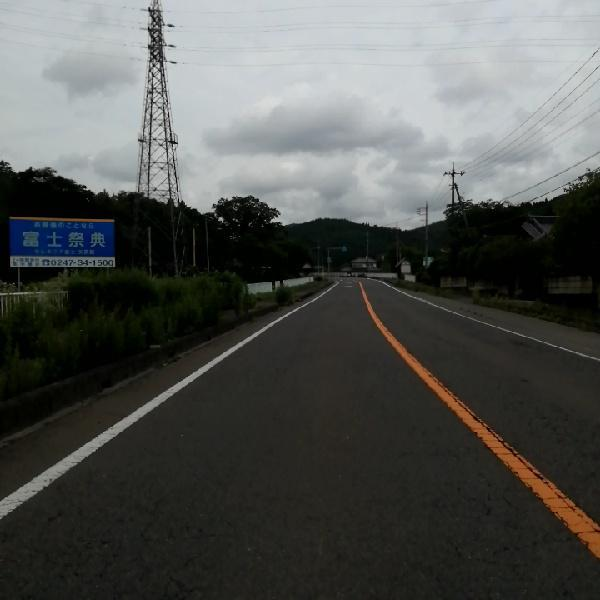D20: (53, 495, 248, 597)
